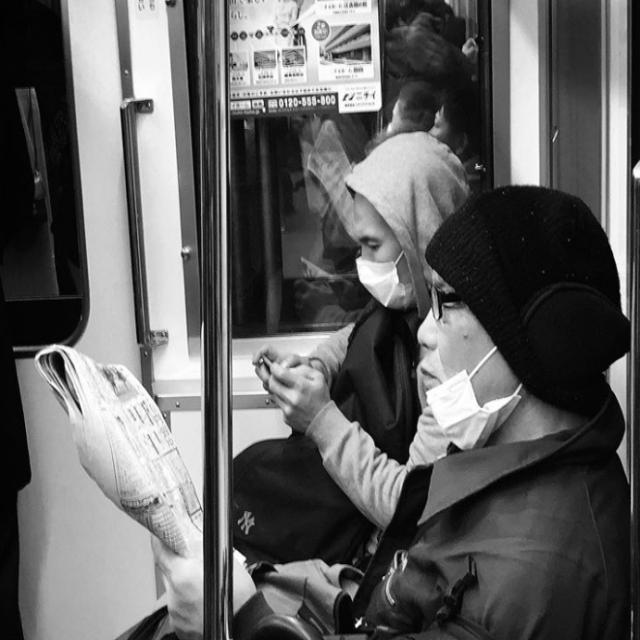mask: (418, 370, 530, 464), (328, 234, 421, 317)
